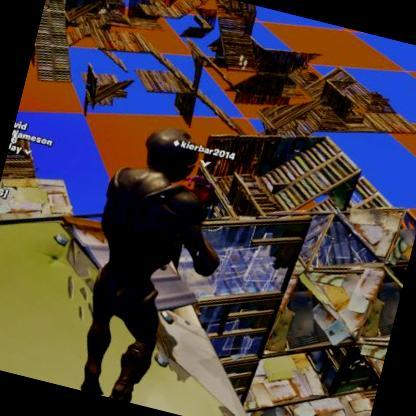person: (57, 109, 253, 416)
